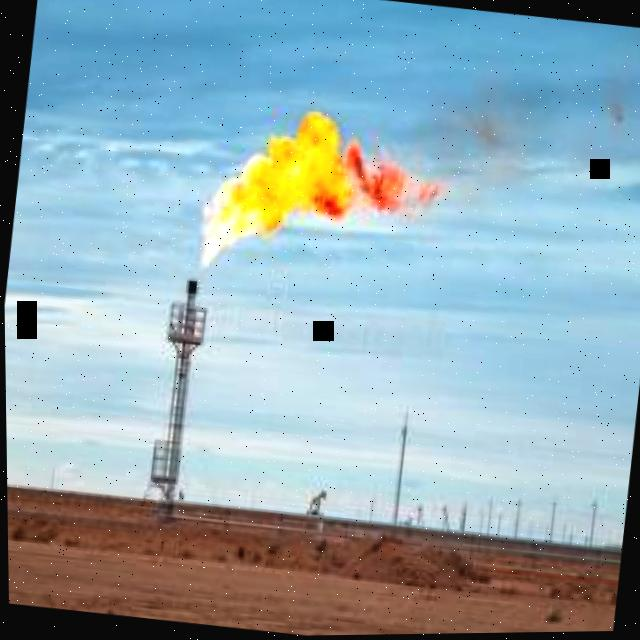fire: (199, 112, 444, 270)
